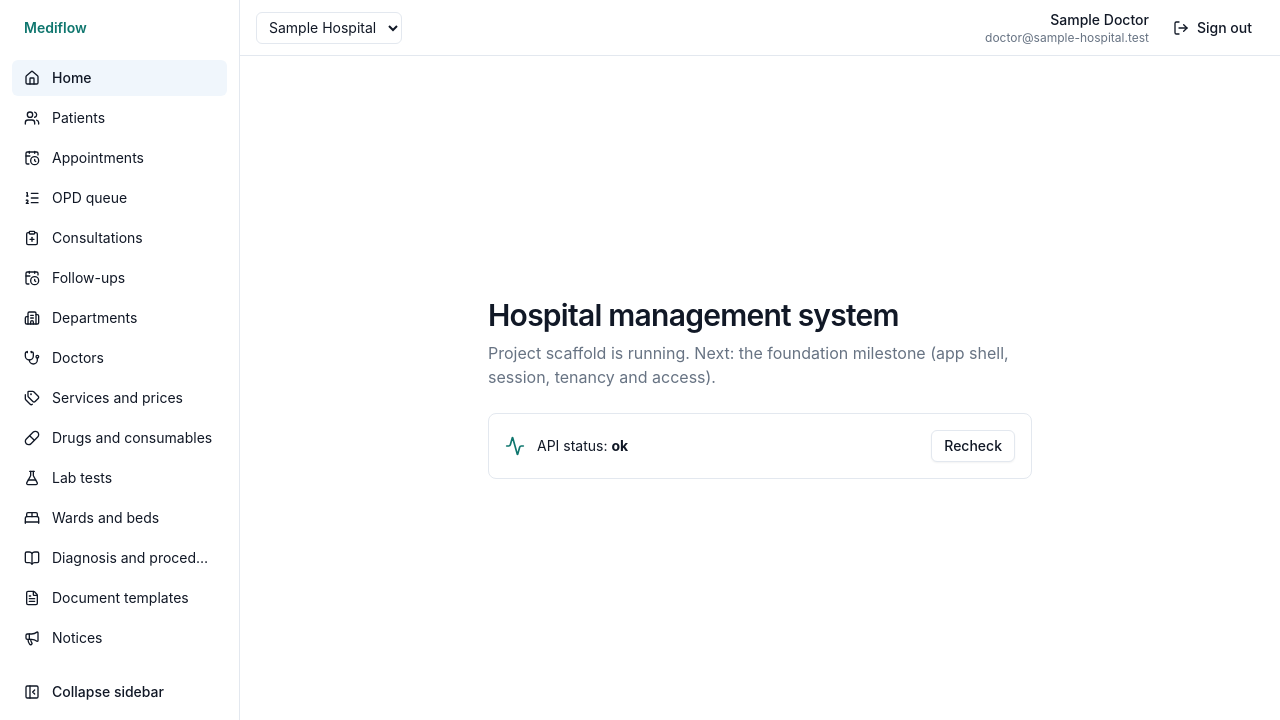
Test case: language from the hospital › changes the UI language when the user switches to a hospital with another locale
Check: the heading "Hospital management system" is shown, box [488, 297, 899, 333]
Select "Riverside Clinic" in the dropdown named "Hospital" at (329, 28), box [256, 12, 402, 44]
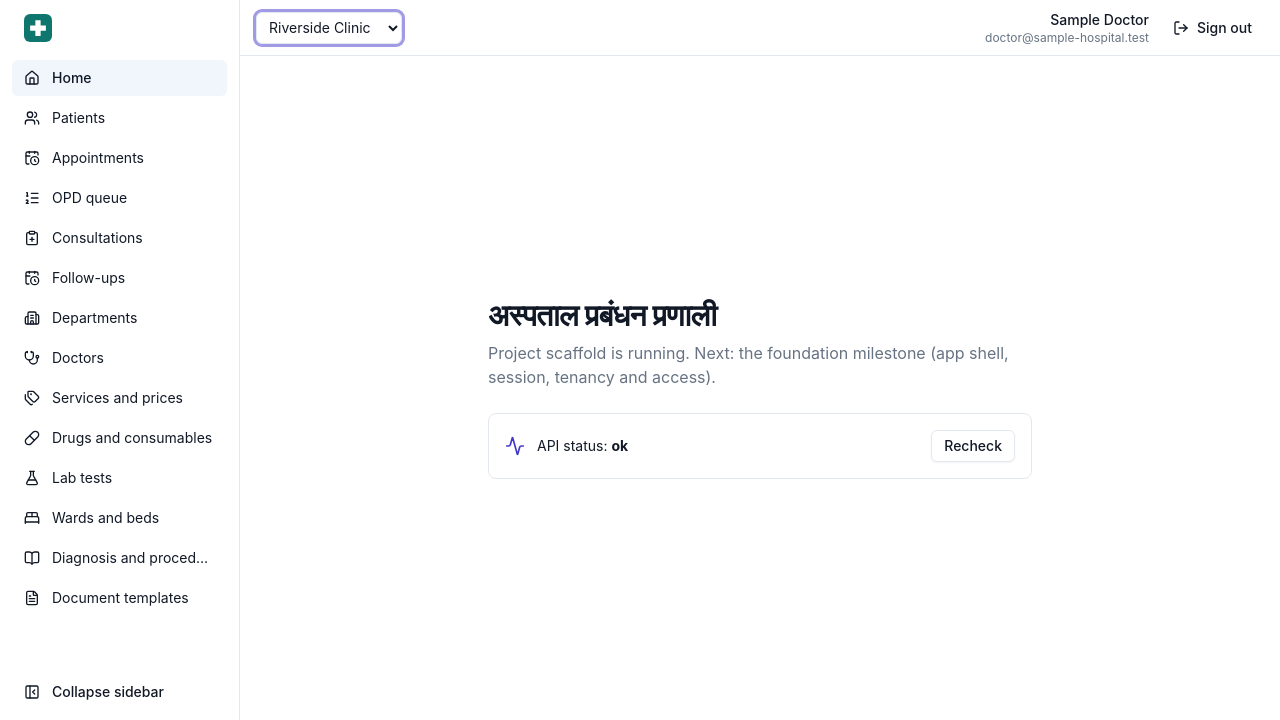
Check: the button "Recheck" is shown, box [931, 430, 1015, 462]
Check: the heading "अस्पताल प्रबंधन प्रणाली" is shown, box [488, 297, 716, 333]
Select "Sample Hospital" in the dropdown named "Hospital" at (329, 28), box [256, 12, 402, 44]
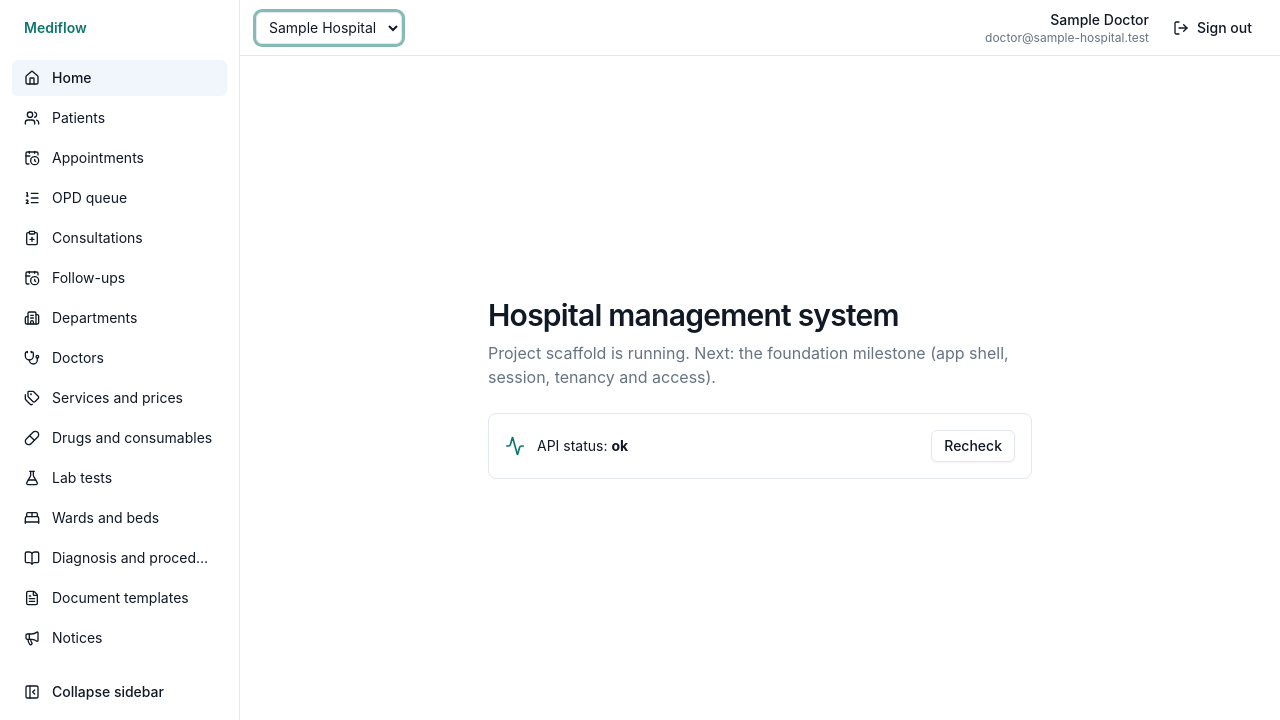
Check: the heading "Hospital management system" is shown, box [488, 297, 899, 333]
